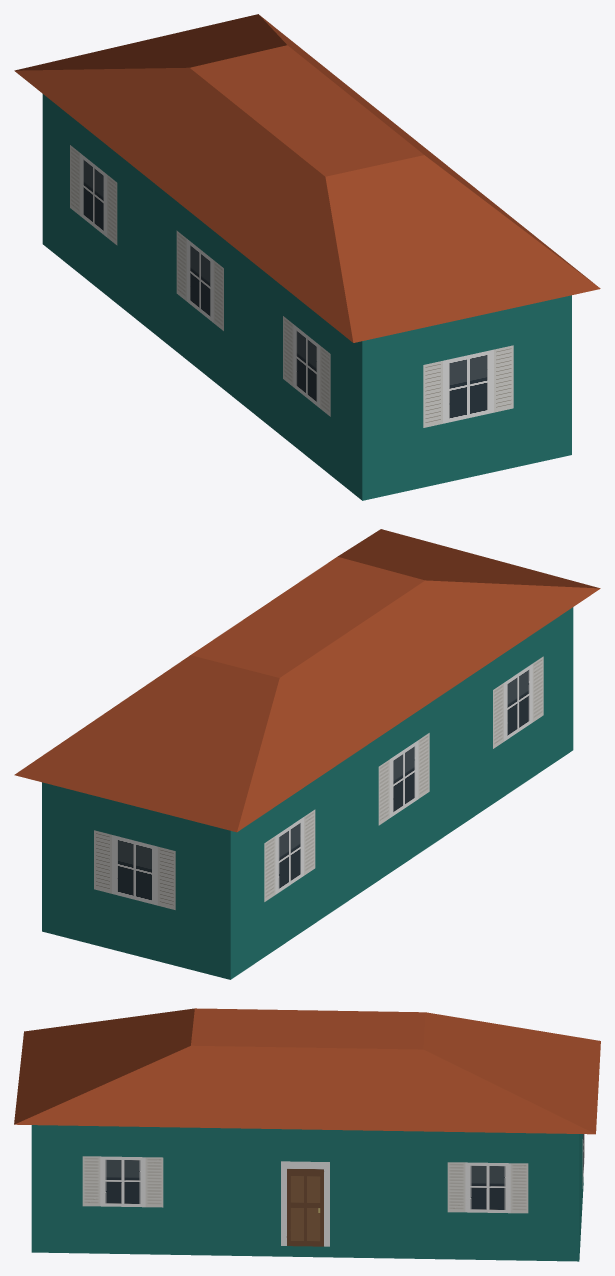
Rendered from msb_palmbeach_m24_m11.glb.
The picture shows the model from 3 angles, top to bottom: view 1: azimuth 30°, elevation 25°; view 2: azimuth 150°, elevation 25°; view 3: azimuth 270°, elevation 25°; orthographic projection. The views are drawn at different scales.
Visible parts, largest first — view 1: msb_palmbeach_m24_m11_lod0; view 2: msb_palmbeach_m24_m11_lod0; view 3: msb_palmbeach_m24_m11_lod0.
Part boxes in pixels (x1=…): msb_palmbeach_m24_m11_lod0: x1=14, y1=14, x2=600, y2=500; msb_palmbeach_m24_m11_lod0: x1=14, y1=529, x2=600, y2=979; msb_palmbeach_m24_m11_lod0: x1=14, y1=1008, x2=600, y2=1261.
Size of what is drawn, in the model's own units: 5.73 by 4.9 by 13.83.
2 materials, 1 textured.
